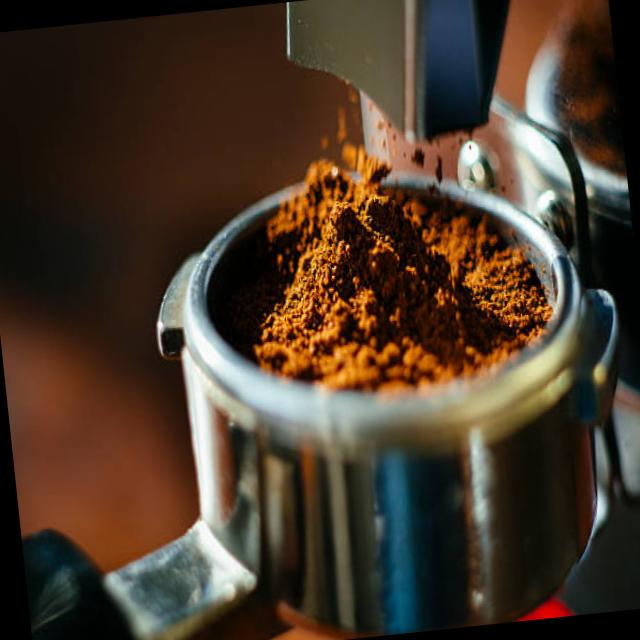paper: (297, 190, 453, 347)
